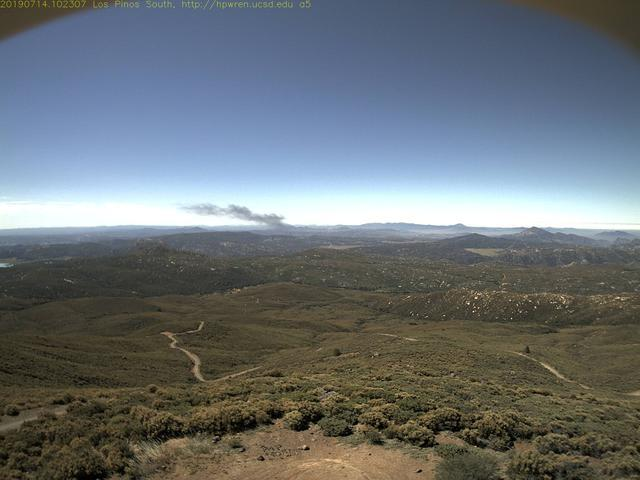smoke: (174, 198, 300, 236)
